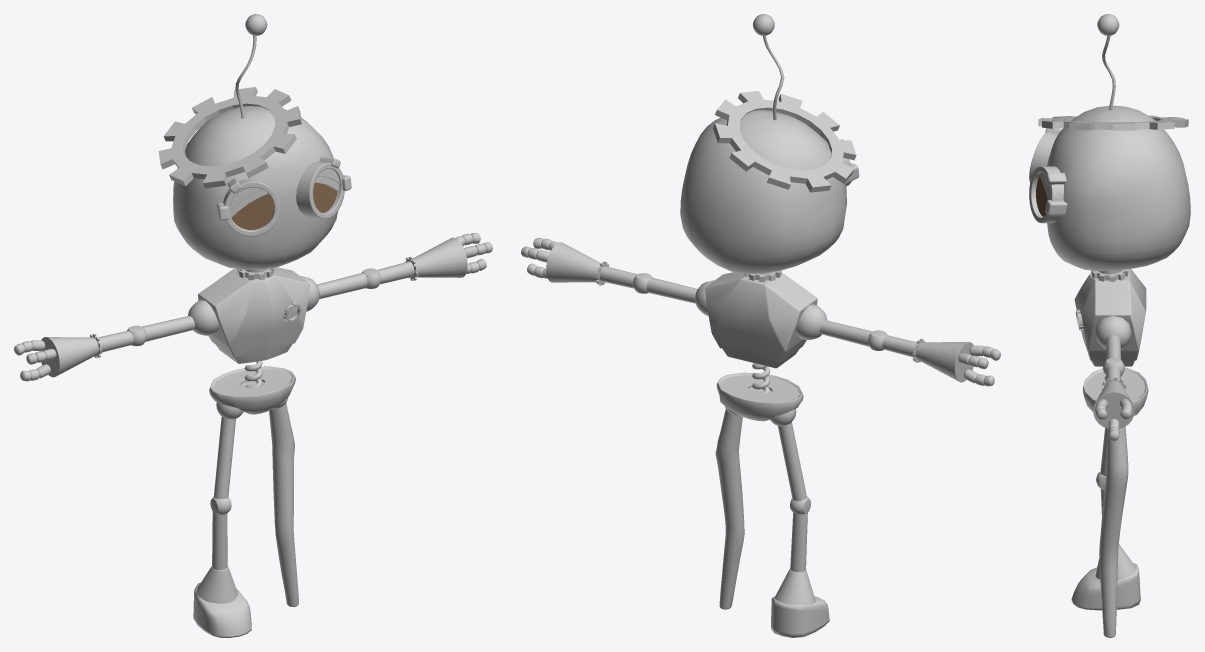
File: SM_Gerard.fbx
The picture shows the model from 3 angles, left to right: view 1: azimuth 30°, elevation 25°; view 2: azimuth 150°, elevation 25°; view 3: azimuth 270°, elevation 25°; orthographic projection.
Parts seen in each view (by area): view 1: HandGear_low001; view 2: HandGear_low001; view 3: HandGear_low001.
Part boxes in pixels (box(x1,y1,x2,y2)): HandGear_low001: box(14, 14, 492, 637); HandGear_low001: box(521, 14, 1000, 637); HandGear_low001: box(1029, 14, 1190, 637).
Size of the model in its own units: 146 by 43.92 by 181.
